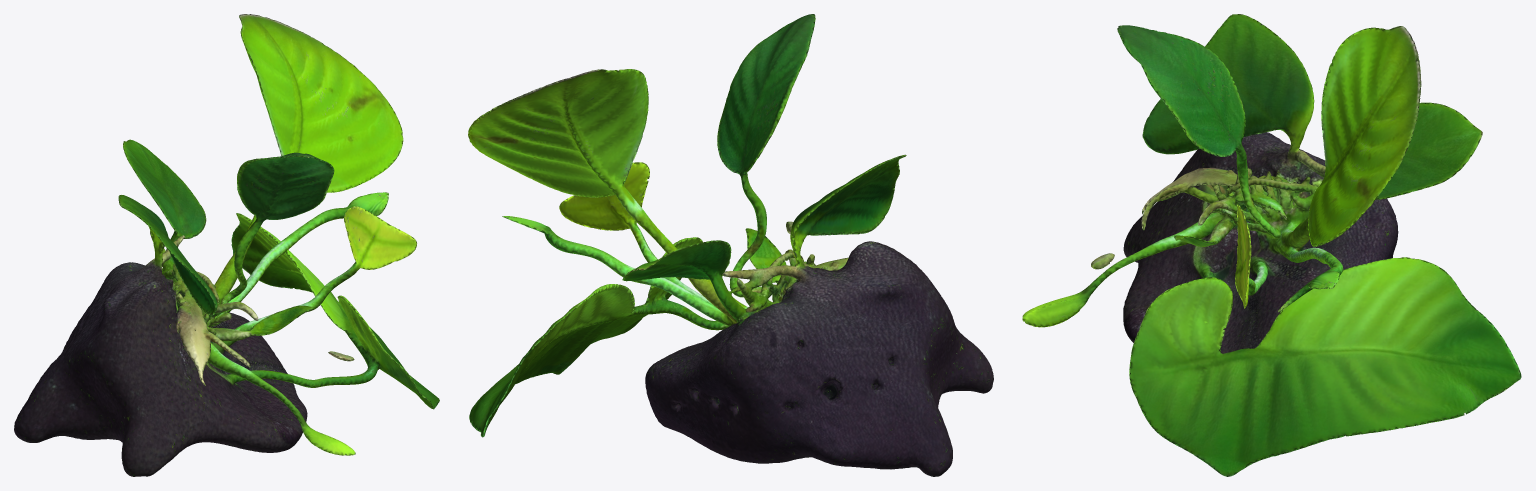
The model's file is aquariumplants_like_anubia_barteri.glb.
3 views of the same model, side by side, from view 1: azimuth 30°, elevation 25°; view 2: azimuth 150°, elevation 25°; view 3: azimuth 270°, elevation 25° (orthographic). The views are drawn at different scales.
Parts seen in each view (by area): view 1: Object_6, Object_5, Object_7; view 2: Object_5, Object_6, Object_7; view 3: Object_5, Object_6, Object_7.
Boxes of the visible parts, x1=… form: Object_6: x1=14, y1=16, x2=434, y2=476; Object_5: x1=14, y1=14, x2=439, y2=476; Object_7: x1=24, y1=133, x2=414, y2=439; Object_5: x1=468, y1=14, x2=961, y2=476; Object_6: x1=468, y1=14, x2=993, y2=476; Object_7: x1=532, y1=87, x2=950, y2=468; Object_5: x1=1091, y1=14, x2=1521, y2=476; Object_6: x1=1022, y1=14, x2=1520, y2=467; Object_7: x1=1181, y1=14, x2=1482, y2=373.
Size of the model in its own units: 1.91 by 1.62 by 1.88.
1 material, 1 textured.
